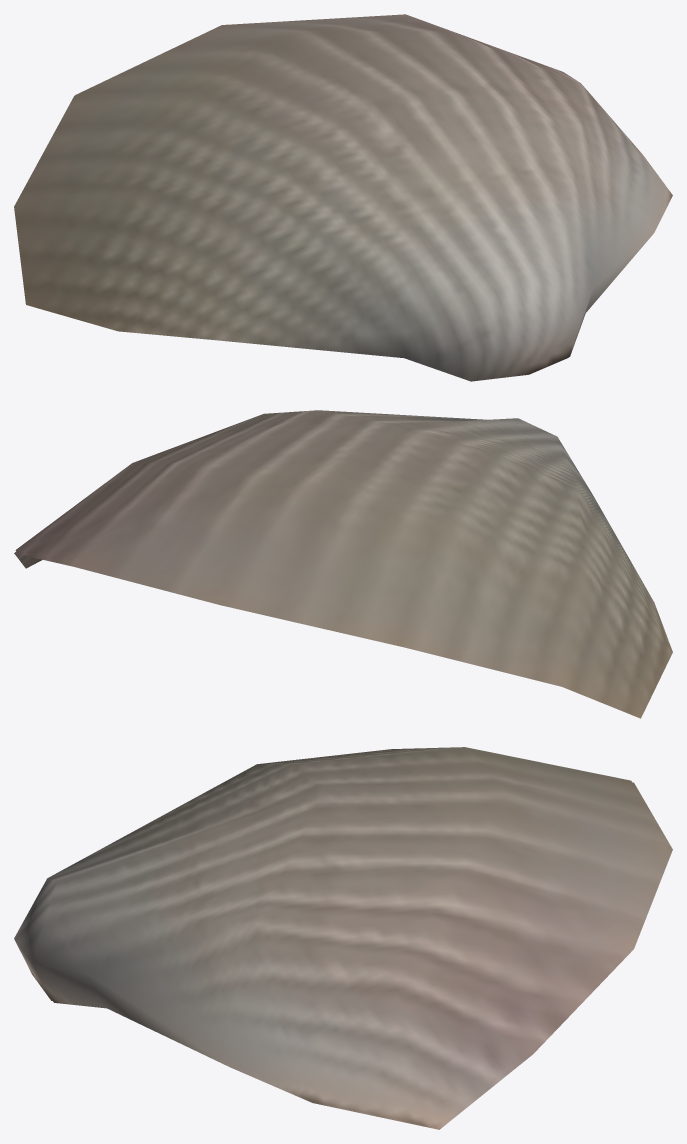
File: beike.FBX
3 views of the same model, one above another, from view 1: azimuth 30°, elevation 25°; view 2: azimuth 150°, elevation 25°; view 3: azimuth 270°, elevation 25° (orthographic). The views are drawn at different scales.
Visible parts, largest first — view 1: beuke; view 2: beuke; view 3: beuke.
Part boxes in pixels (x1,y1,x2,y2): beuke: (14,14,672,381); beuke: (14,410,672,718); beuke: (14,747,672,1129).
Size of the model in its own units: 6.01 by 1.69 by 5.4.
Materials: 1 (1 with a texture image).
